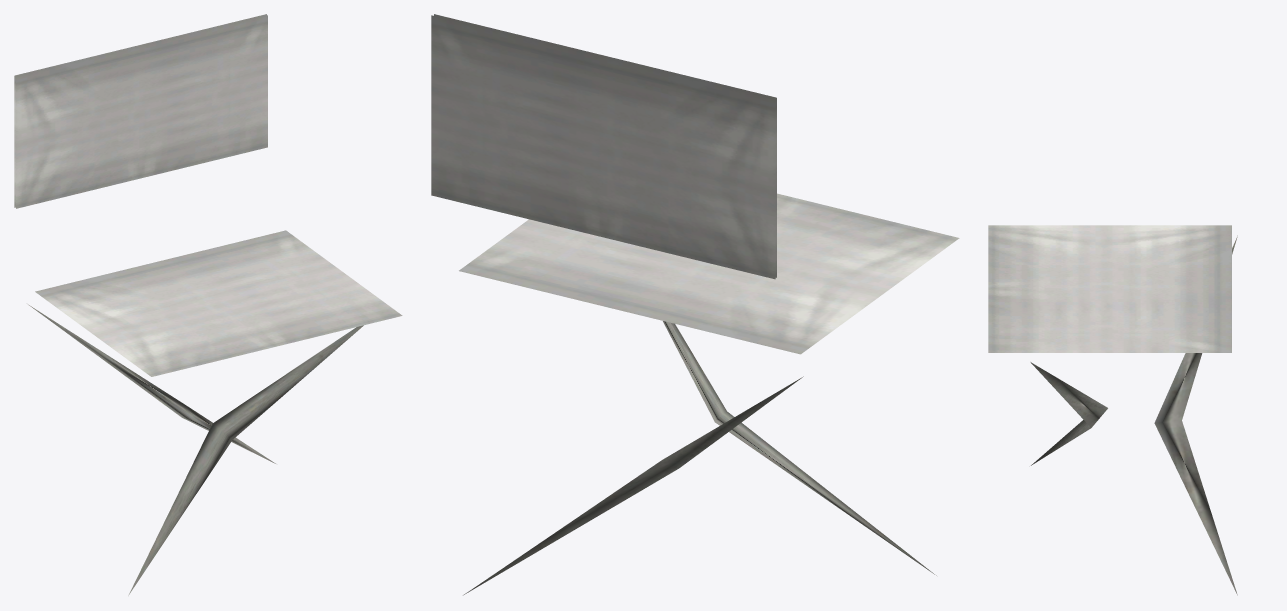
File: eqp_camping_chair_s1_l4.fbx
The picture shows the model from 3 angles, left to right: view 1: azimuth 30°, elevation 25°; view 2: azimuth 150°, elevation 25°; view 3: azimuth 270°, elevation 25°; orthographic projection. The views are drawn at different scales.
Visible parts, largest first — view 1: mesh_node; view 2: mesh_node; view 3: mesh_node.
Part boxes in pixels (x1,y1,x2,y2): mesh_node: [14, 14, 402, 595]; mesh_node: [431, 14, 959, 595]; mesh_node: [988, 225, 1237, 595].
Bounding box in the file's own units: 0.5101 × 0.8276 × 0.4669.
Materials: 1 (1 with a texture image).
